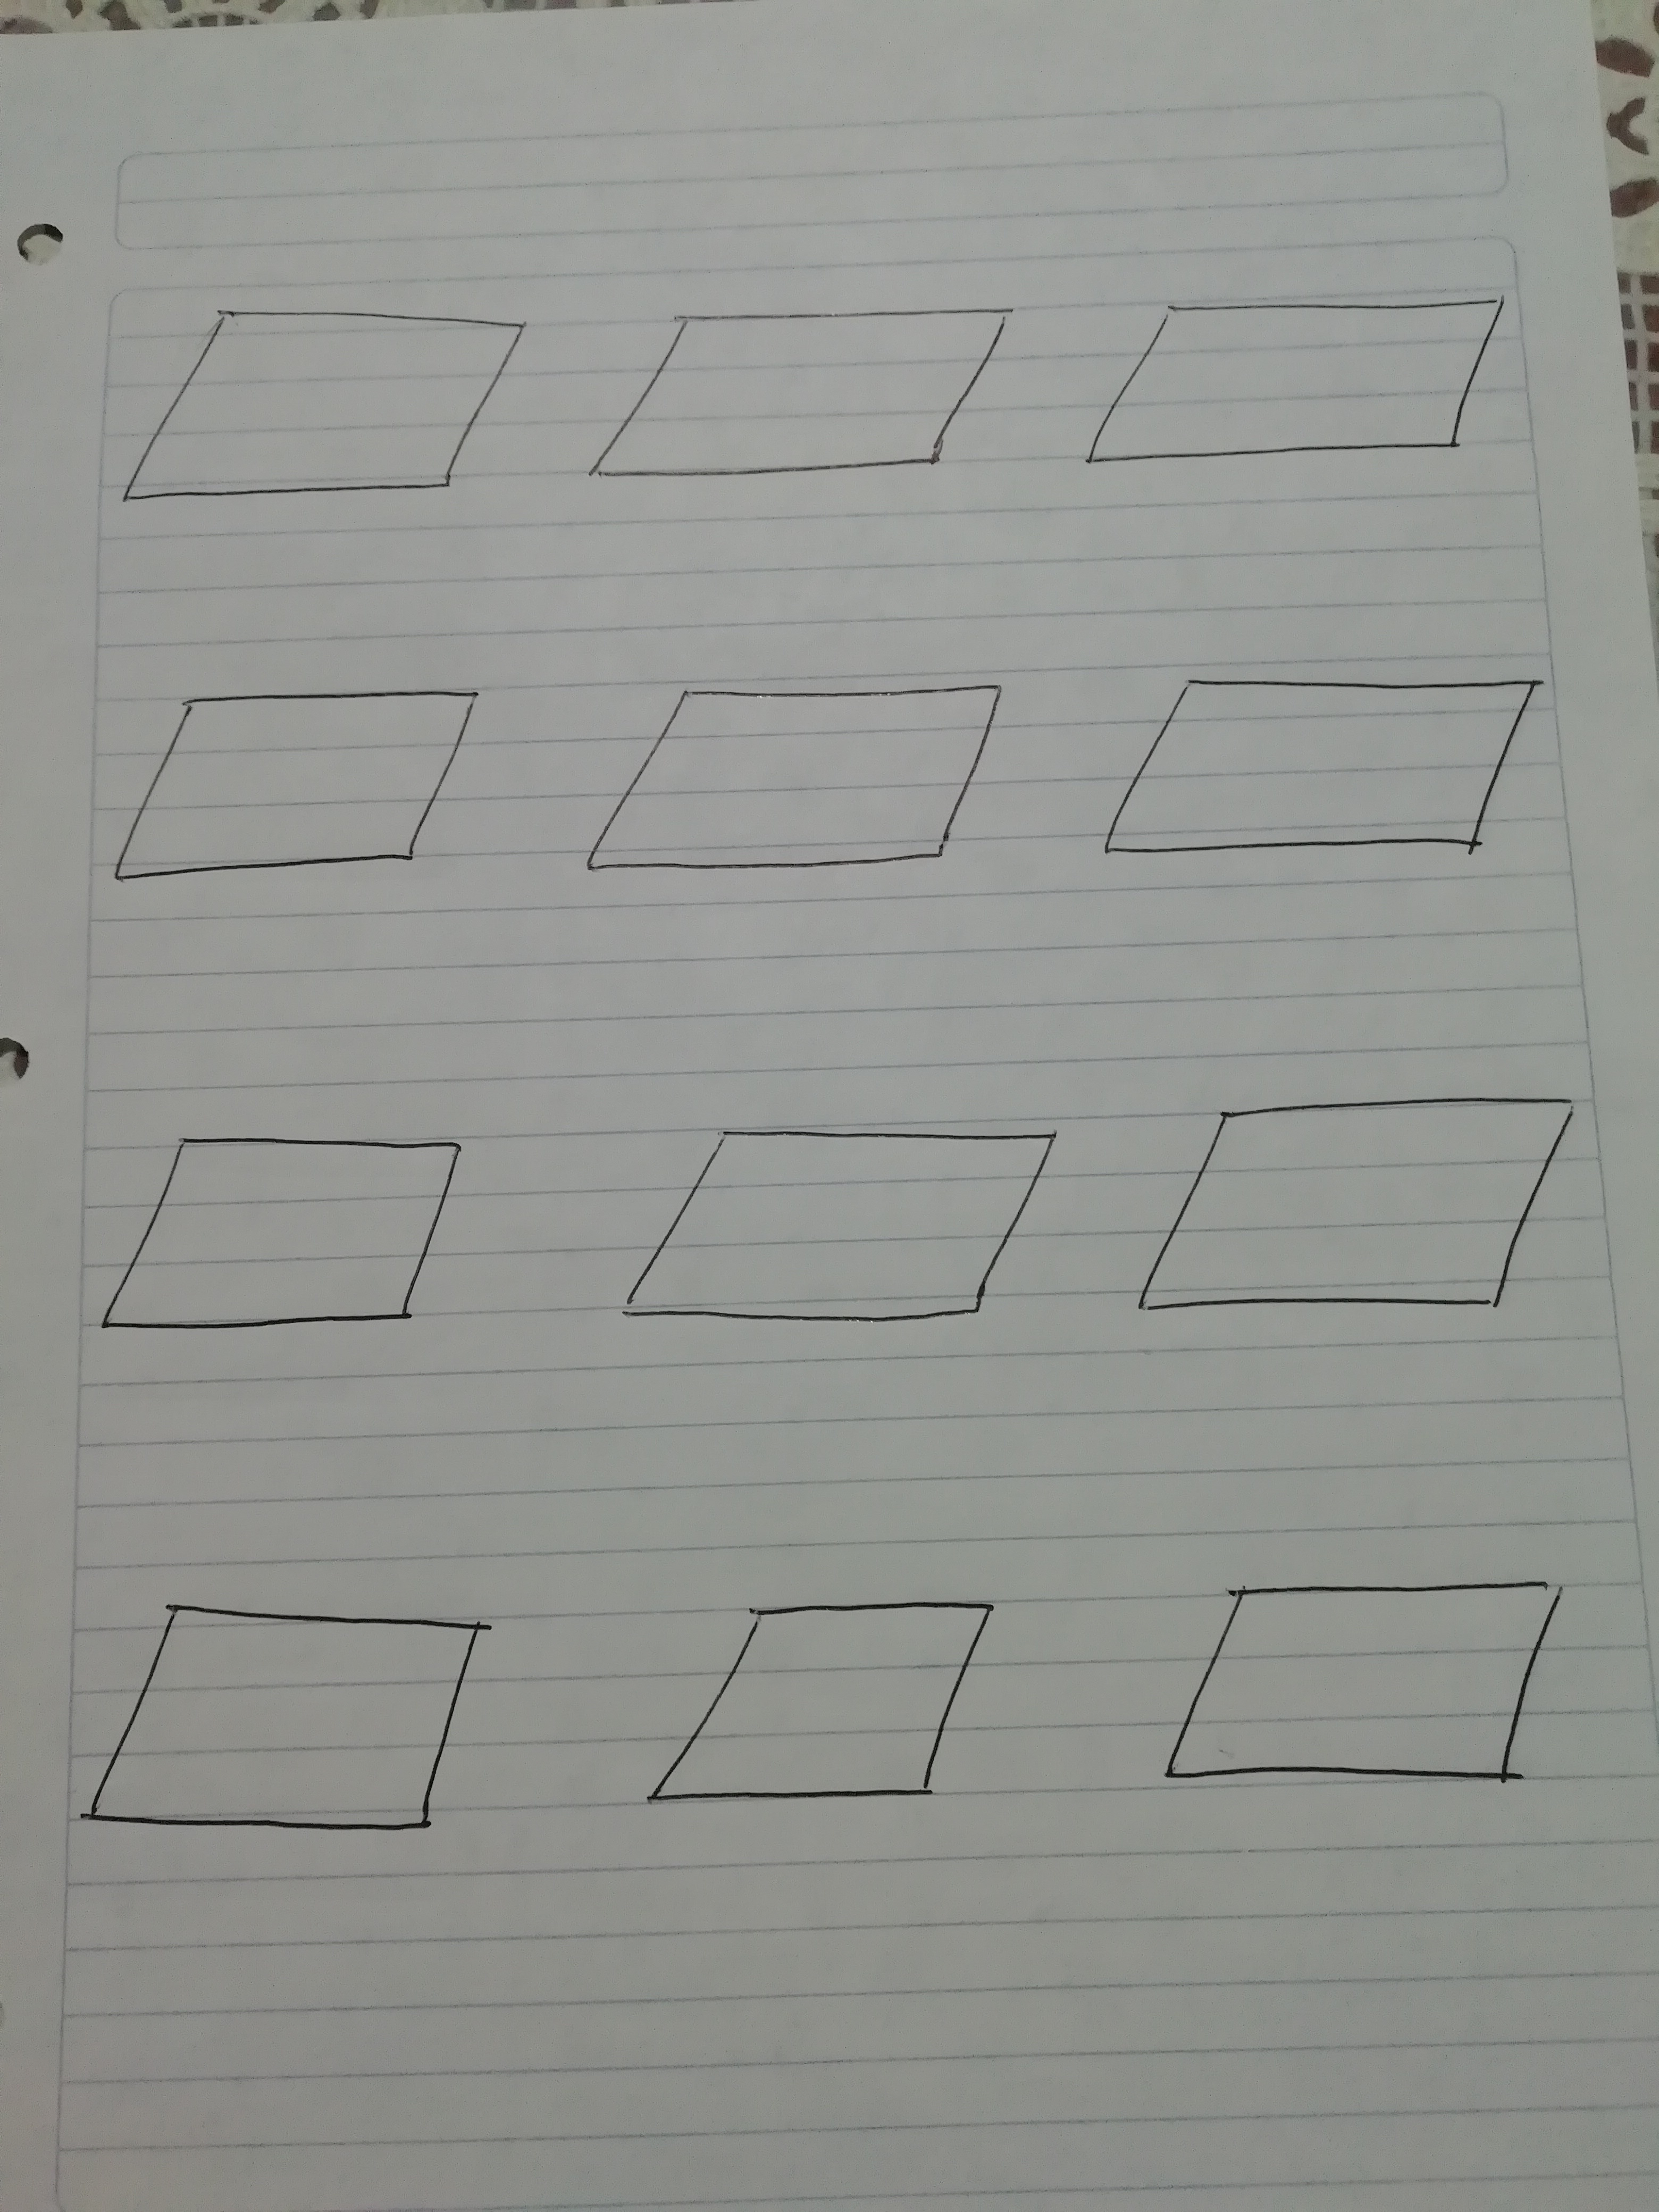scan: (59, 1571, 526, 1900), (1112, 1082, 1614, 1362), (622, 1566, 1058, 1883), (1140, 1552, 1600, 1836), (608, 1096, 1091, 1364), (565, 662, 1040, 914), (54, 662, 512, 918), (54, 1106, 495, 1369), (101, 284, 551, 538), (1075, 660, 1572, 890), (572, 280, 1033, 510), (1072, 277, 1527, 496)
